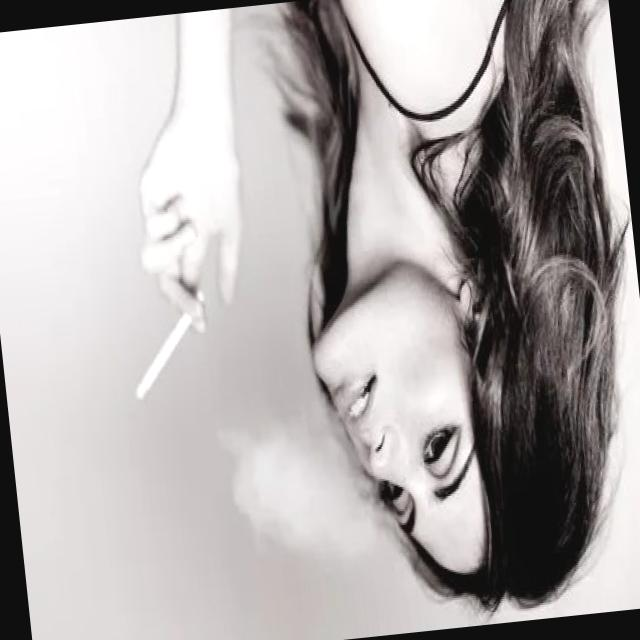cigarette: (121, 280, 220, 410)
